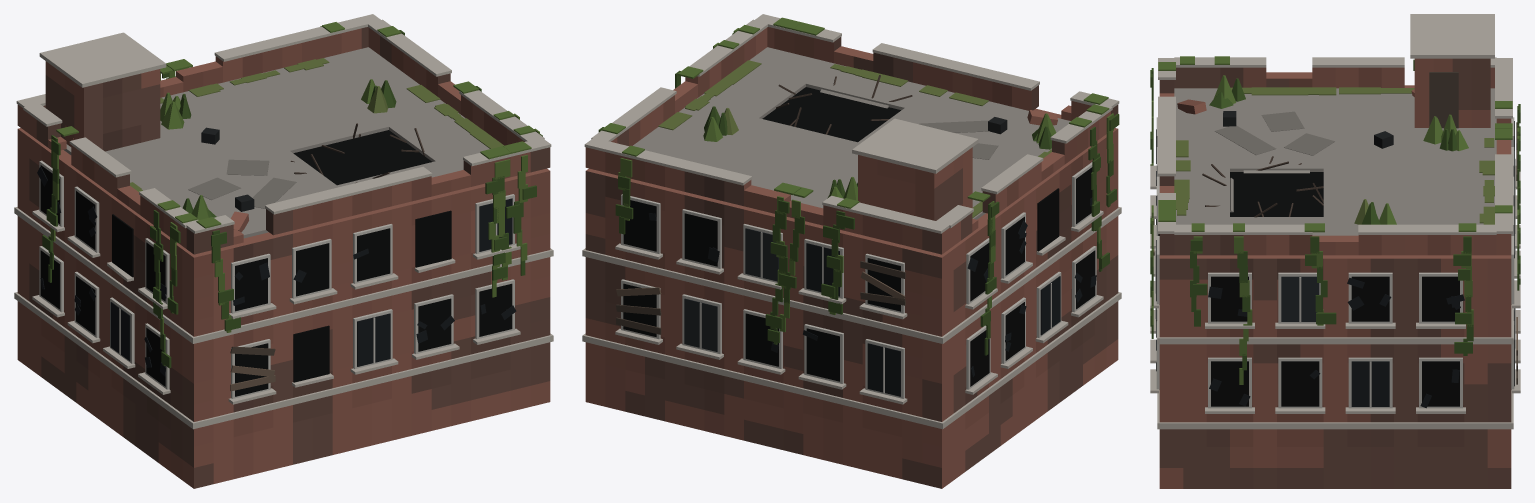
File: building_brick_2f.glb
The picture shows the model from 3 angles, left to right: view 1: azimuth 30°, elevation 25°; view 2: azimuth 150°, elevation 25°; view 3: azimuth 270°, elevation 25°; orthographic projection.
Visible parts, largest first — view 1: building_brick_2f; view 2: building_brick_2f; view 3: building_brick_2f.
Part boxes in pixels (left/top/right/bottom): building_brick_2f: left=14, top=14, right=553, bottom=488; building_brick_2f: left=582, top=14, right=1121, bottom=488; building_brick_2f: left=1150, top=14, right=1520, bottom=488.
Size of the model in its own units: 14.64 by 11.62 by 12.64.
